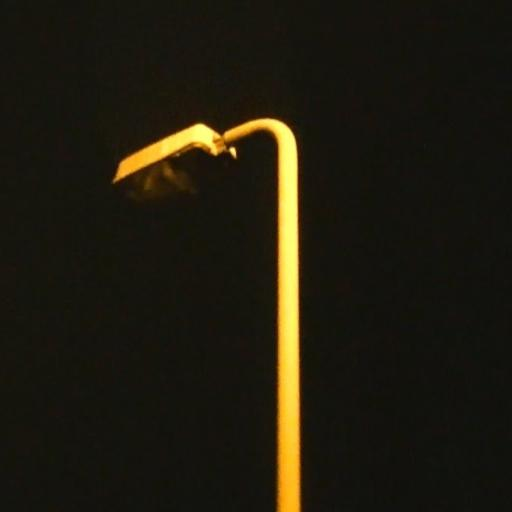off street light: (108, 112, 308, 512)
